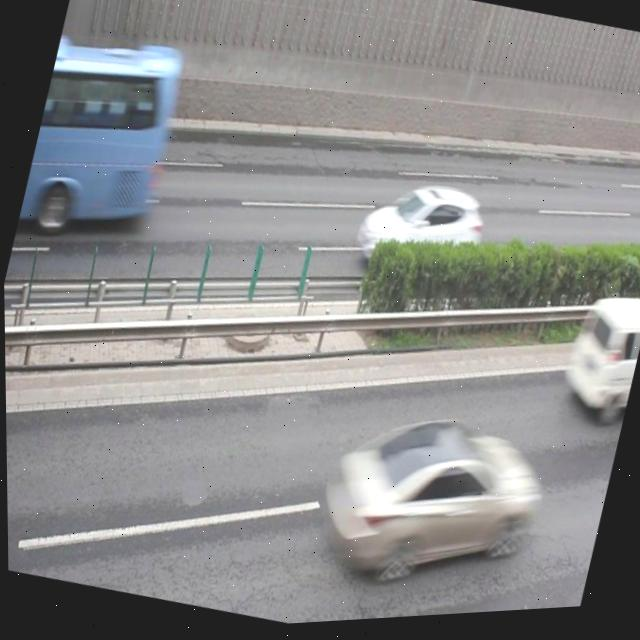car: (305, 393, 548, 618), (346, 168, 491, 299)
truck: (552, 291, 640, 425)
van: (14, 23, 189, 254)
